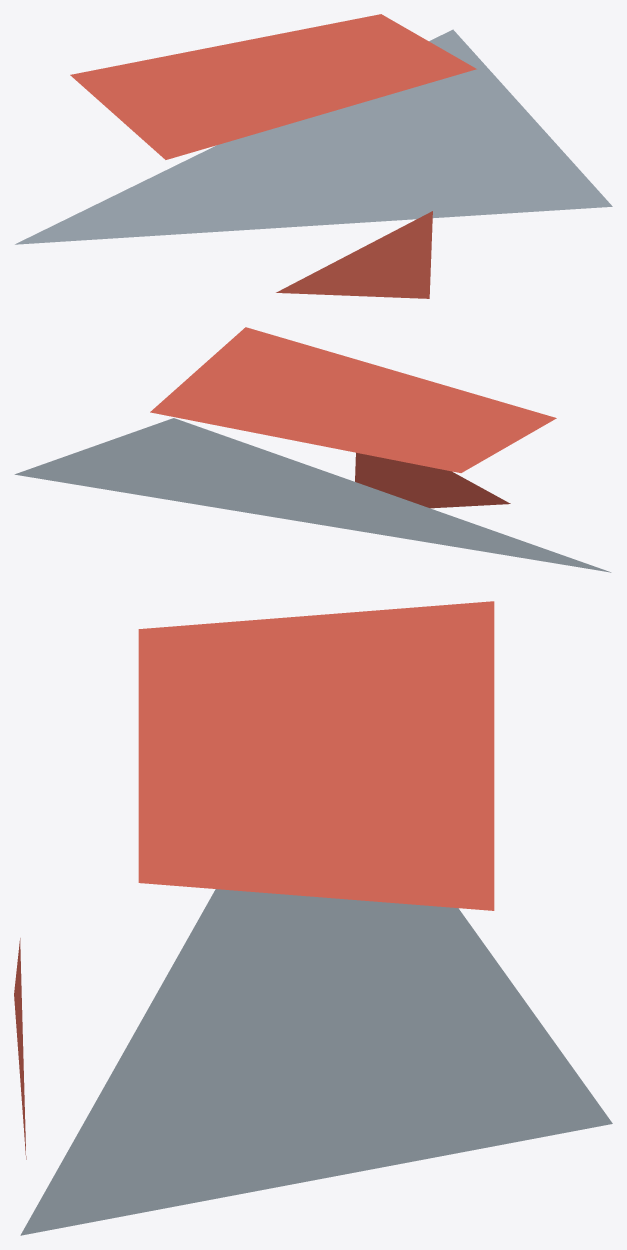
File: SU_ZarevoMLRS_LOD2.glb
The picture shows the model from 3 angles, top to bottom: view 1: azimuth 30°, elevation 25°; view 2: azimuth 150°, elevation 25°; view 3: azimuth 270°, elevation 25°; orthographic projection. The views are drawn at different scales.
Visible parts, largest first — view 1: EntranceGate; view 2: EntranceGate; view 3: EntranceGate.
Boxes of the visible parts, left/top/right/bottom form: EntranceGate: left=15, top=14, right=612, bottom=298; EntranceGate: left=14, top=327, right=611, bottom=572; EntranceGate: left=14, top=601, right=612, bottom=1235.
Bounding box in the file's own units: 600 × 208 × 323.
